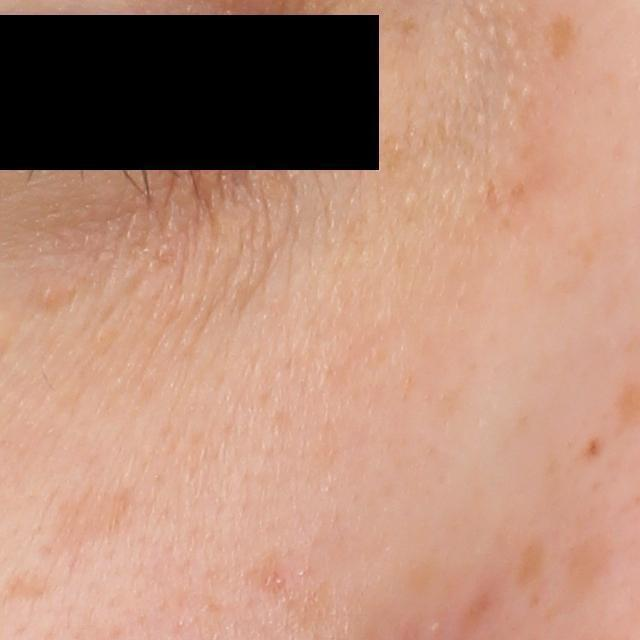melasma: (28, 484, 144, 556), (561, 538, 614, 604), (532, 8, 580, 64), (516, 514, 544, 588)
